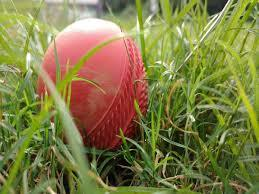Ball: (40, 17, 148, 142)
